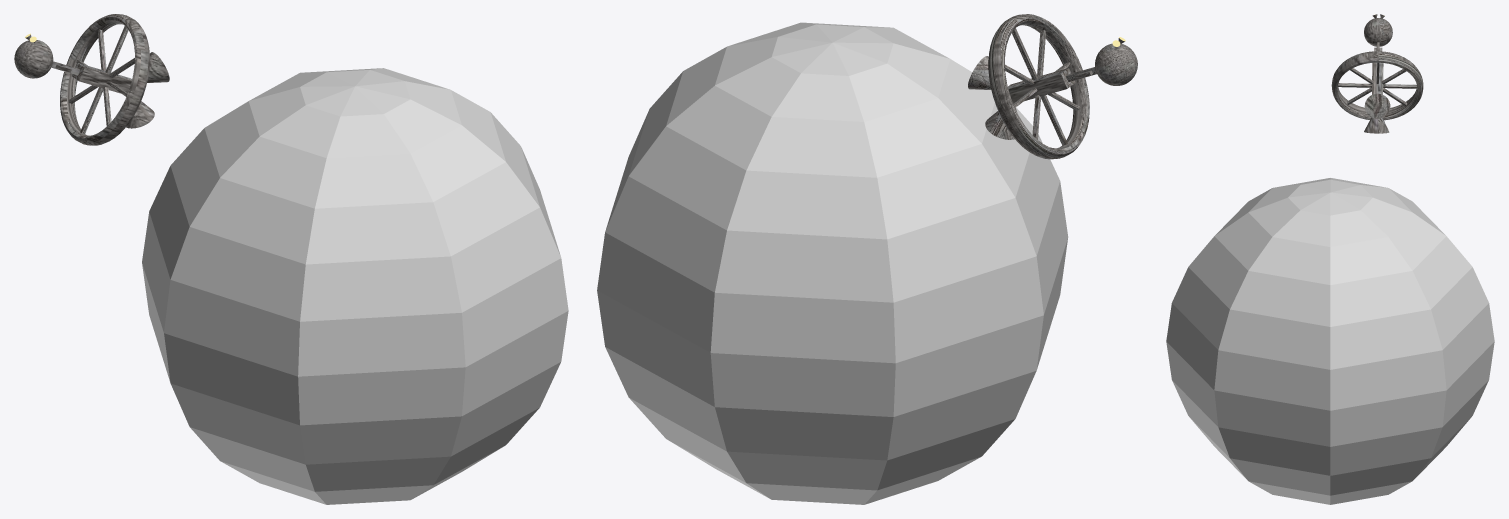
The picture shows the model from 3 angles, left to right: view 1: azimuth 30°, elevation 25°; view 2: azimuth 150°, elevation 25°; view 3: azimuth 270°, elevation 25°; orthographic projection. The views are drawn at different scales.
Visible parts, largest first — view 1: Sphere, Cube.007; view 2: Sphere, Cube.007; view 3: Sphere, Cube.007.
Boxes of the visible parts, x1,y1,x2,y2 form: Sphere: (142,68,568,504); Cube.007: (14,14,169,145); Sphere: (597,22,1068,504); Cube.007: (968,14,1137,159); Sphere: (1166,178,1494,504); Cube.007: (1331,14,1423,133).
Bounding box in the file's own units: 77.18 × 73.91 × 59.37.
3 materials, 1 textured.
